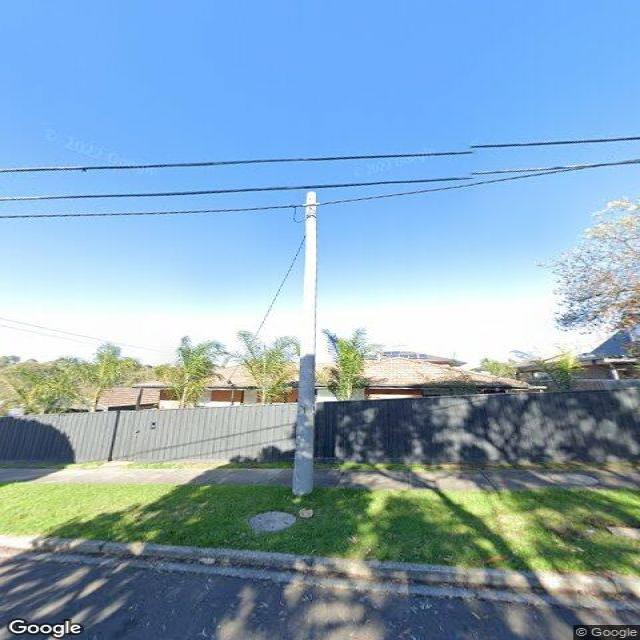concrete-pole: (289, 187, 319, 499)
